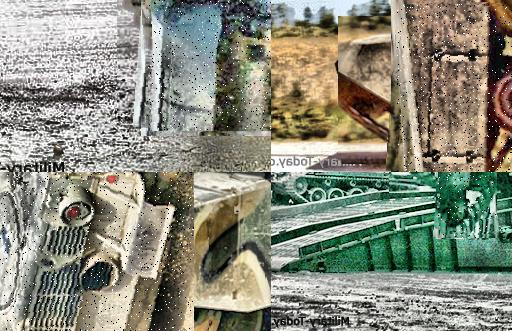tanks: (1, 173, 177, 331), (398, 6, 512, 173), (148, 1, 272, 132), (272, 173, 429, 205), (439, 173, 497, 239)
